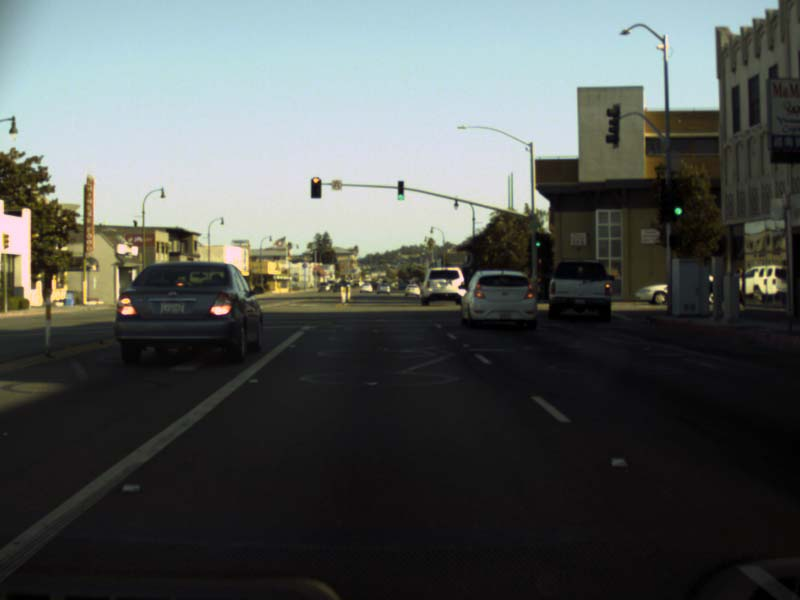Green: (672, 190, 683, 222), (397, 180, 404, 200), (534, 231, 542, 248)
Red: (309, 176, 322, 199)
